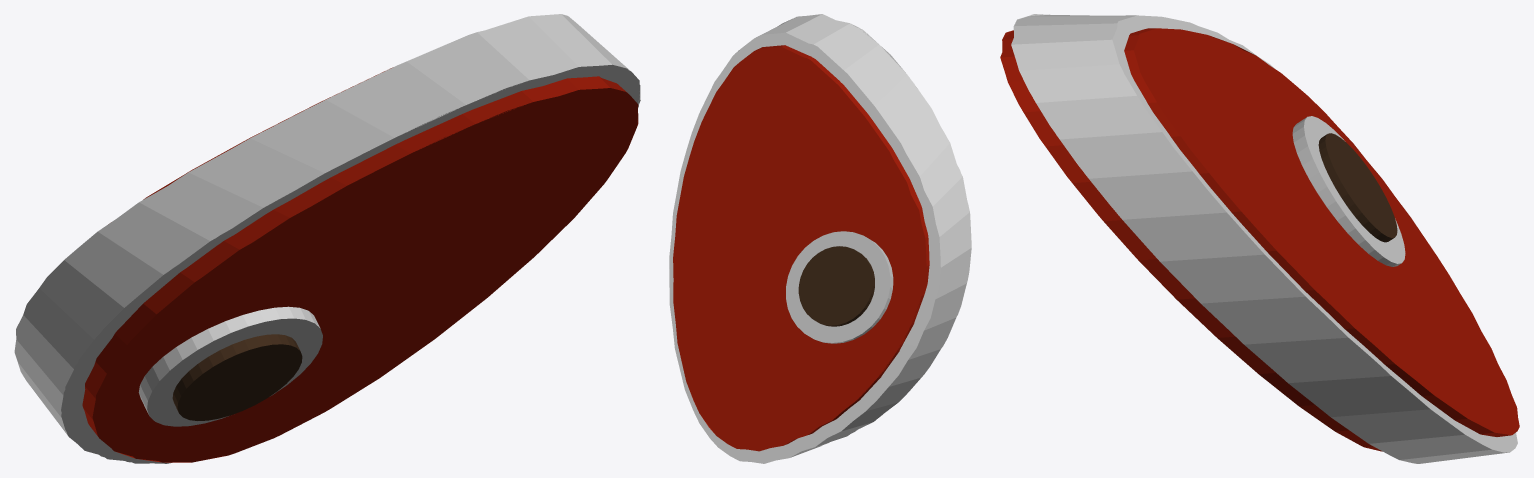
The model's file is food_1_meat.fbx.
3 renders of one model, left to right at view 1: azimuth 30°, elevation 25°; view 2: azimuth 150°, elevation 25°; view 3: azimuth 270°, elevation 25°, orthographic. The views are drawn at different scales.
Visible parts, largest first — view 1: food_meat; view 2: food_meat; view 3: food_meat.
Boxes of the visible parts, <box> form: food_meat: <box>14,14,640,463</box>; food_meat: <box>669,14,971,463</box>; food_meat: <box>1000,14,1519,463</box>.
Size of the model in its own units: 44.23 by 47.38 by 46.34.
